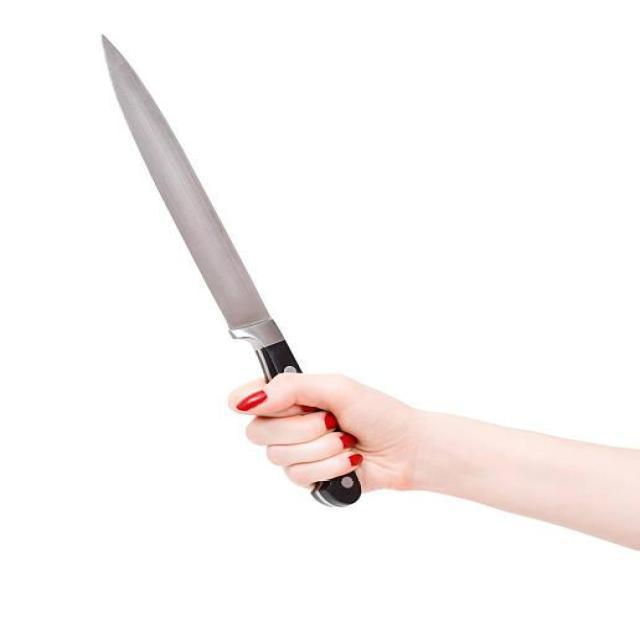faca: (73, 9, 427, 540)
